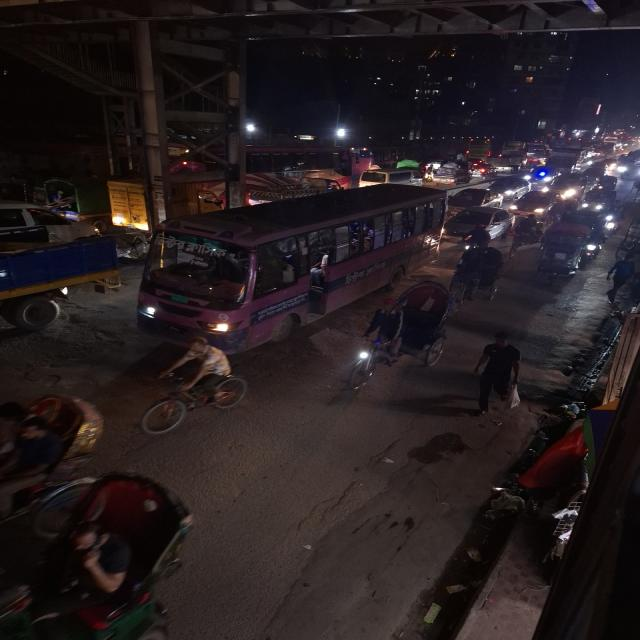bicycle: (123, 360, 262, 441)
bus: (138, 178, 447, 350)
car: (444, 205, 515, 242), (510, 190, 563, 218), (546, 174, 588, 201), (488, 175, 530, 200)
cng: (583, 188, 613, 214), (597, 175, 621, 194)
pedestrian: (471, 330, 524, 422)
rickshaw: (0, 464, 213, 640), (345, 277, 455, 393), (0, 389, 107, 495), (534, 221, 592, 283), (458, 248, 507, 306)
truck: (0, 190, 122, 336), (548, 149, 586, 175)
